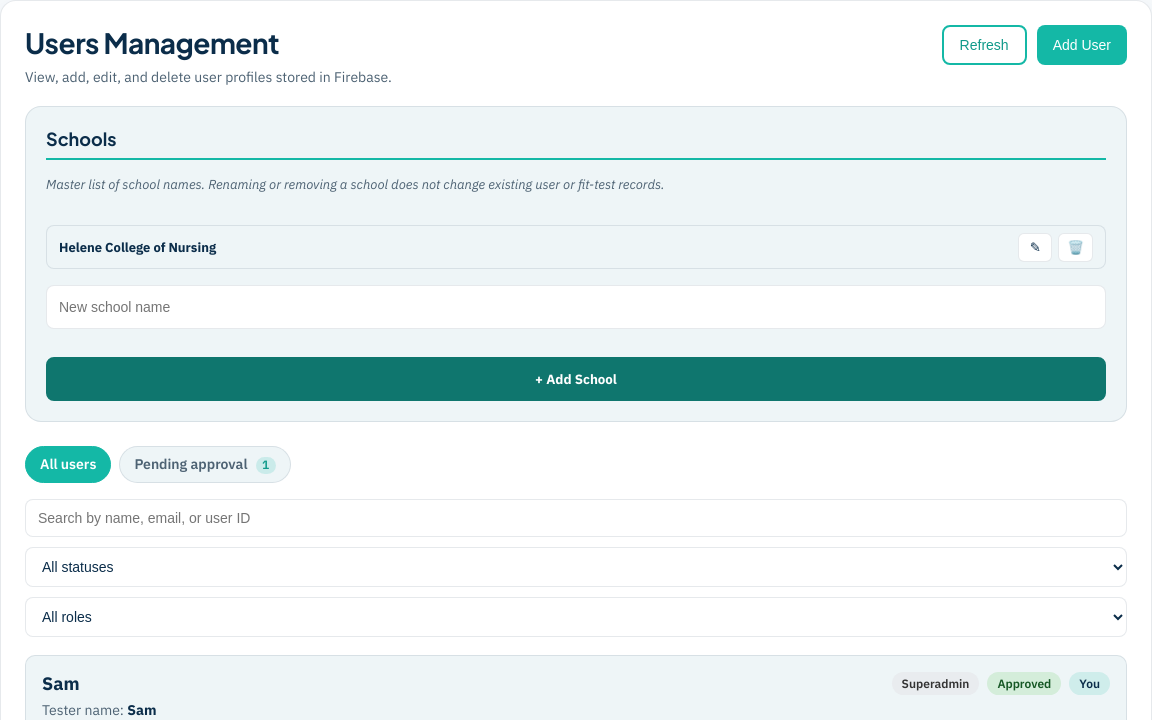
a super admin must choose one school when creating faculty
Step 1. Click the button "Add User" → x=1082, y=45, box [1037,25,1127,65]
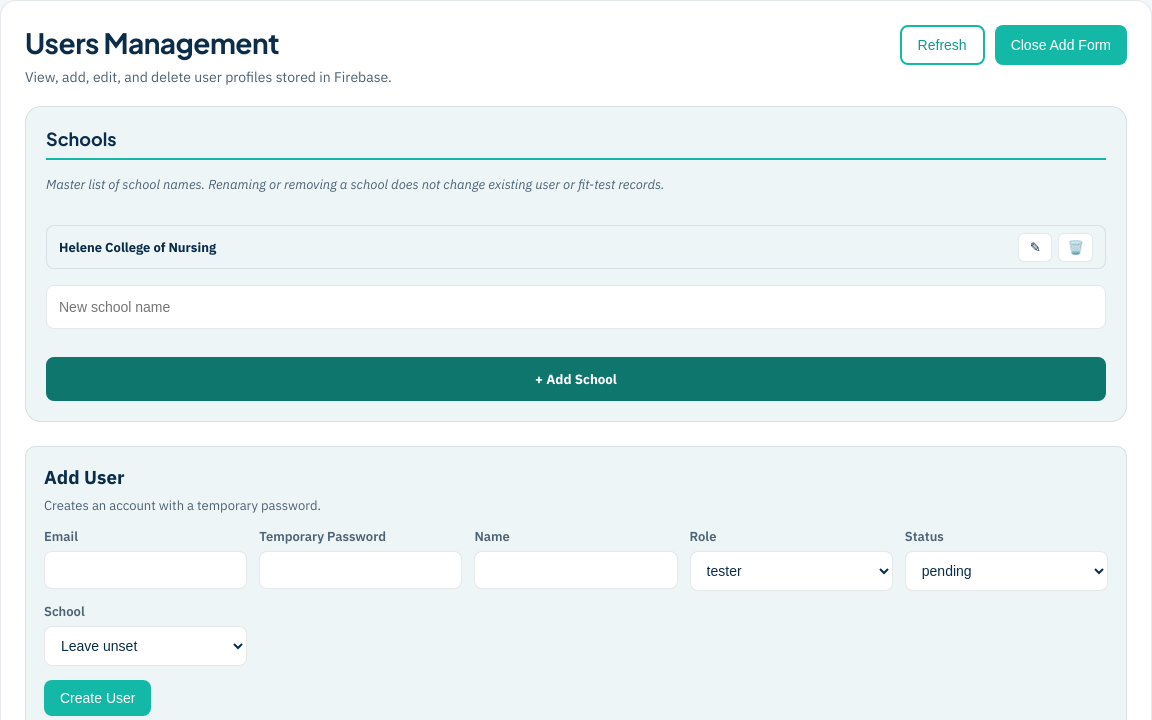
Step 2. Select "faculty" in the dropdown labelled "Role" → x=791, y=571, box [690,551,893,591]
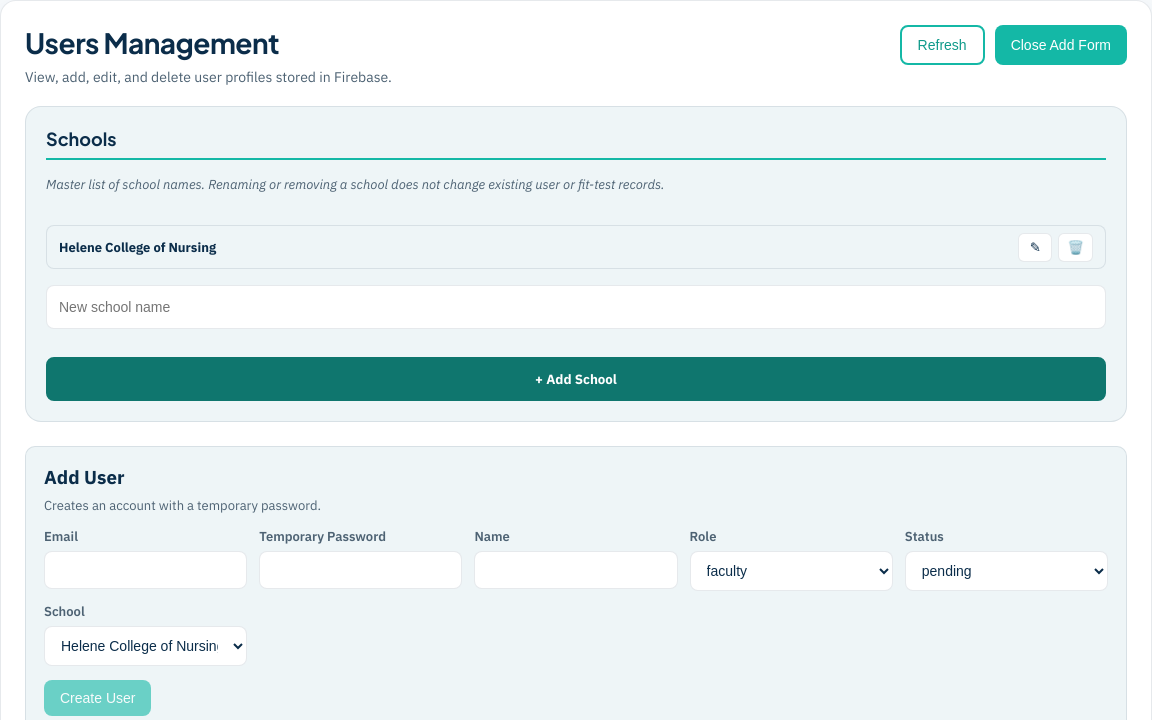
Expected: the button "Create User" is disabled, [44,680,152,716]
Step 3. Select "Helene College of Nursing" in the dropdown labelled "School" → x=146, y=646, box [44,626,247,666]
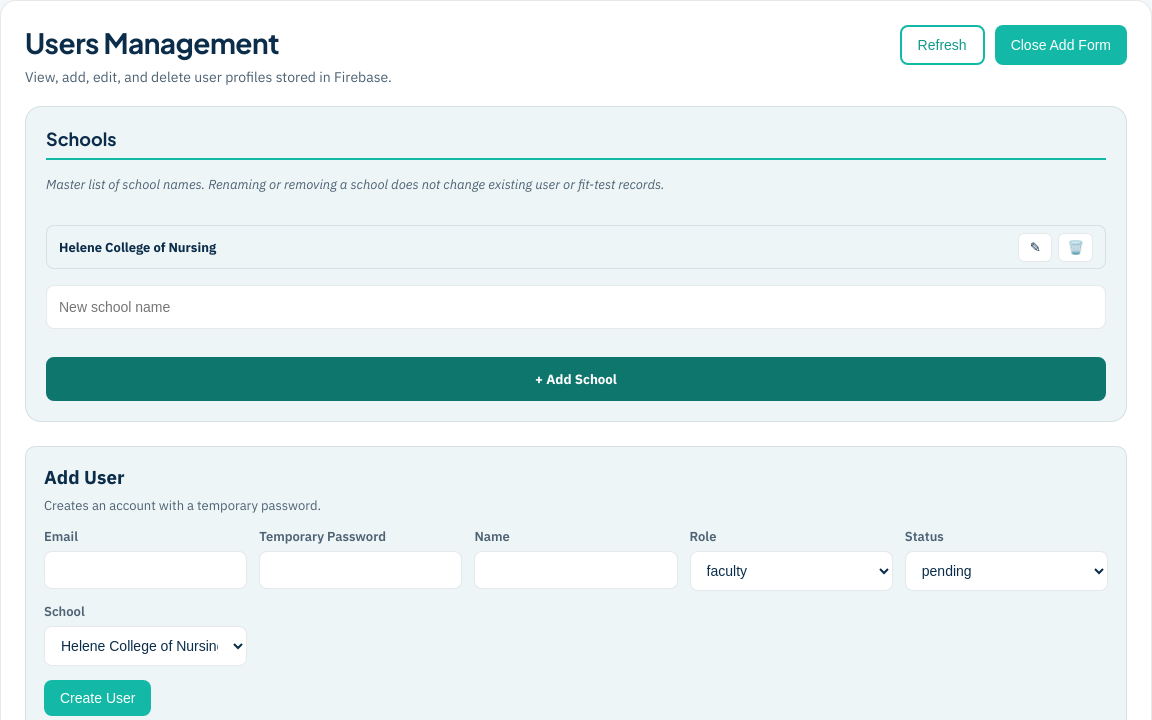
Expected: the button "Create User" is enabled, [44,680,152,716]
